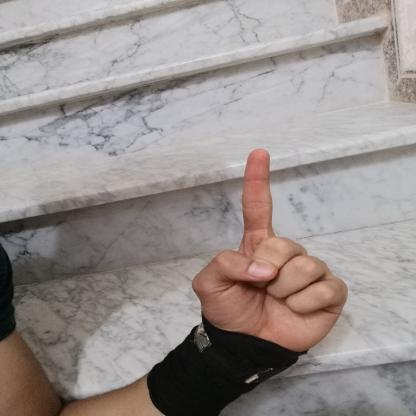BAA: (182, 136, 353, 366)
